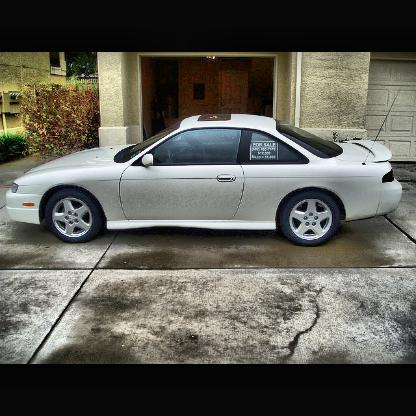Nissan 240SX Coupe 1998: (8, 115, 403, 248)
